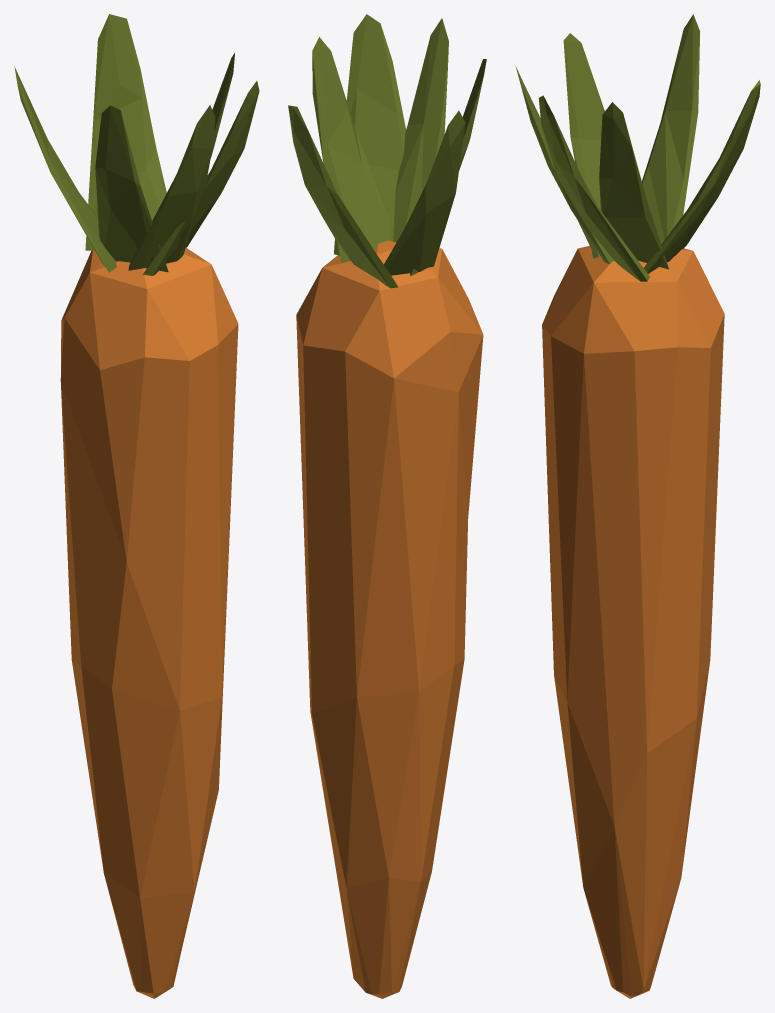
File: fantasy_food_carrot.fbx
3 renders of one model, left to right at view 1: azimuth 30°, elevation 25°; view 2: azimuth 150°, elevation 25°; view 3: azimuth 270°, elevation 25°, orthographic.
Parts seen in each view (by area): view 1: Cylinder.024; view 2: Cylinder.024; view 3: Cylinder.024.
Boxes of the visible parts, x1,y1,x2,y2 form: Cylinder.024: (14, 14, 259, 998); Cylinder.024: (288, 14, 486, 998); Cylinder.024: (515, 14, 760, 998).
Bounding box in the file's own units: 4.5 × 21.97 × 5.24.
